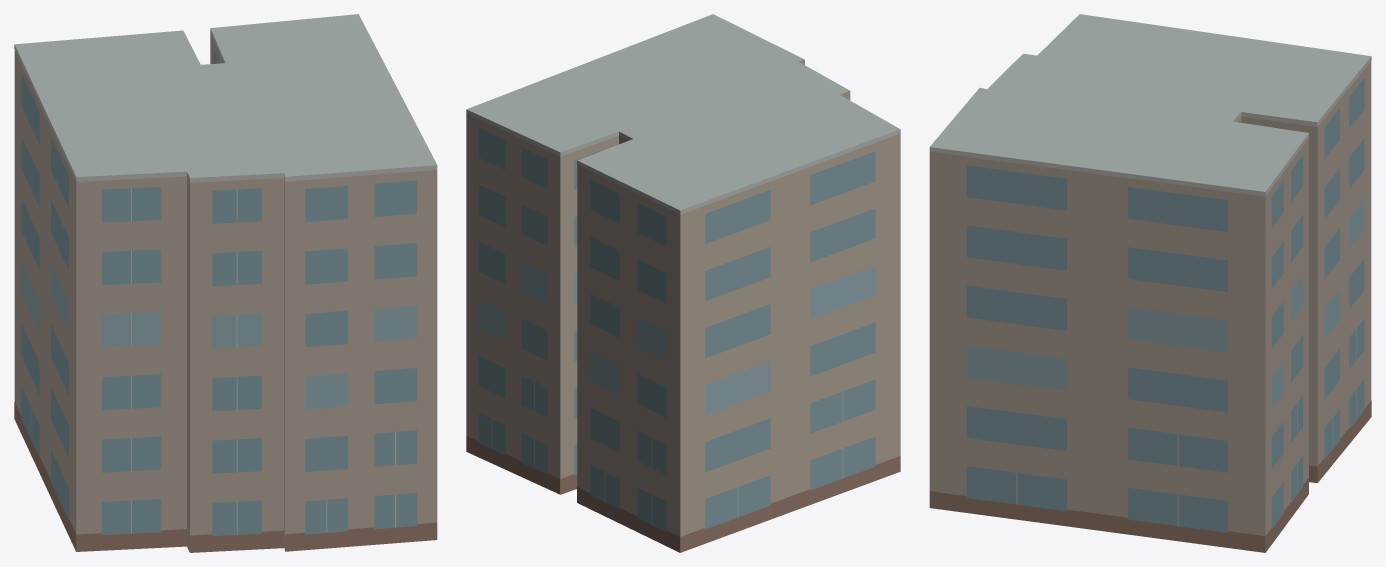
Rendered from survey-upis-32991819.glb.
3 views of the same model, side by side, from view 1: azimuth 30°, elevation 25°; view 2: azimuth 150°, elevation 25°; view 3: azimuth 270°, elevation 25° (orthographic). The views are drawn at different scales.
Visible parts, largest first — view 1: survey-upis-32991819.tmp; view 2: survey-upis-32991819.tmp; view 3: survey-upis-32991819.tmp.
Boxes of the visible parts, left/top/right/bottom form: survey-upis-32991819.tmp: left=14, top=14, right=437, bottom=552; survey-upis-32991819.tmp: left=466, top=14, right=900, bottom=552; survey-upis-32991819.tmp: left=929, top=14, right=1371, bottom=552.
Size of the model in its own units: 20.43 by 19.3 by 21.43.
